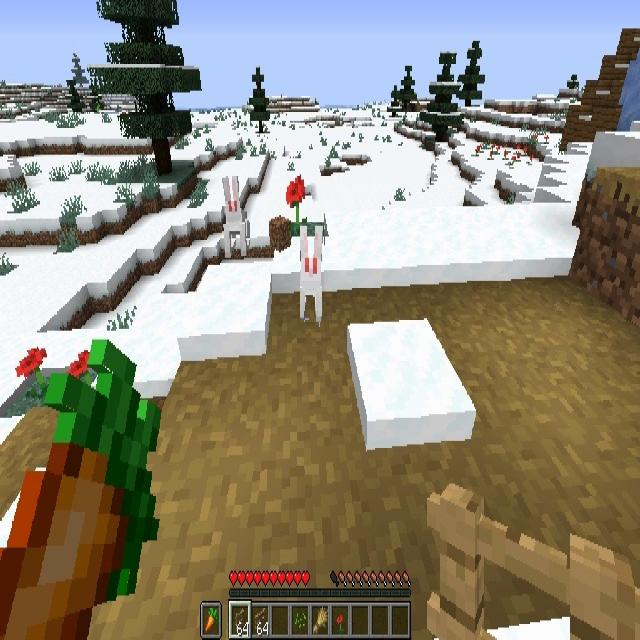rabbit: (300, 223, 324, 322), (221, 177, 246, 255)
